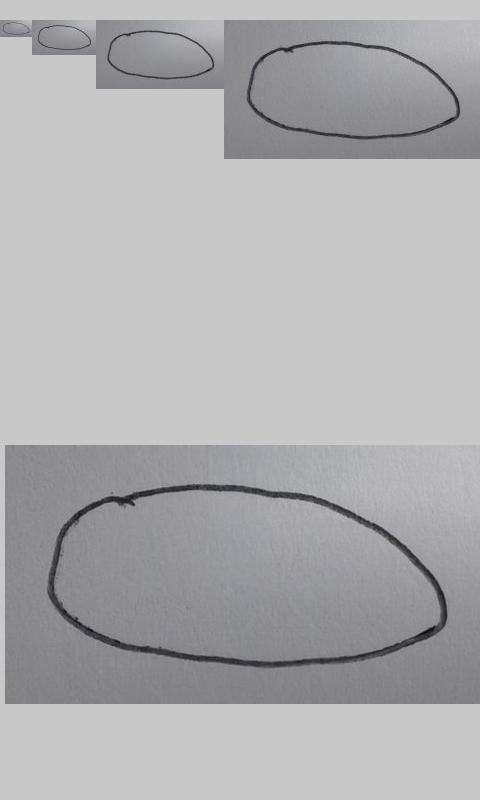chip: (46, 484, 450, 669), (246, 41, 462, 140), (107, 30, 215, 79), (37, 25, 92, 50), (3, 22, 32, 35)
